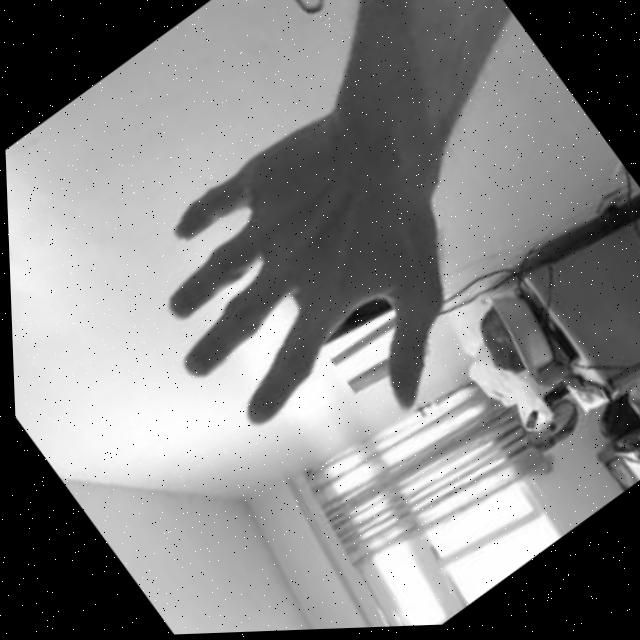hand: (98, 82, 530, 511)
